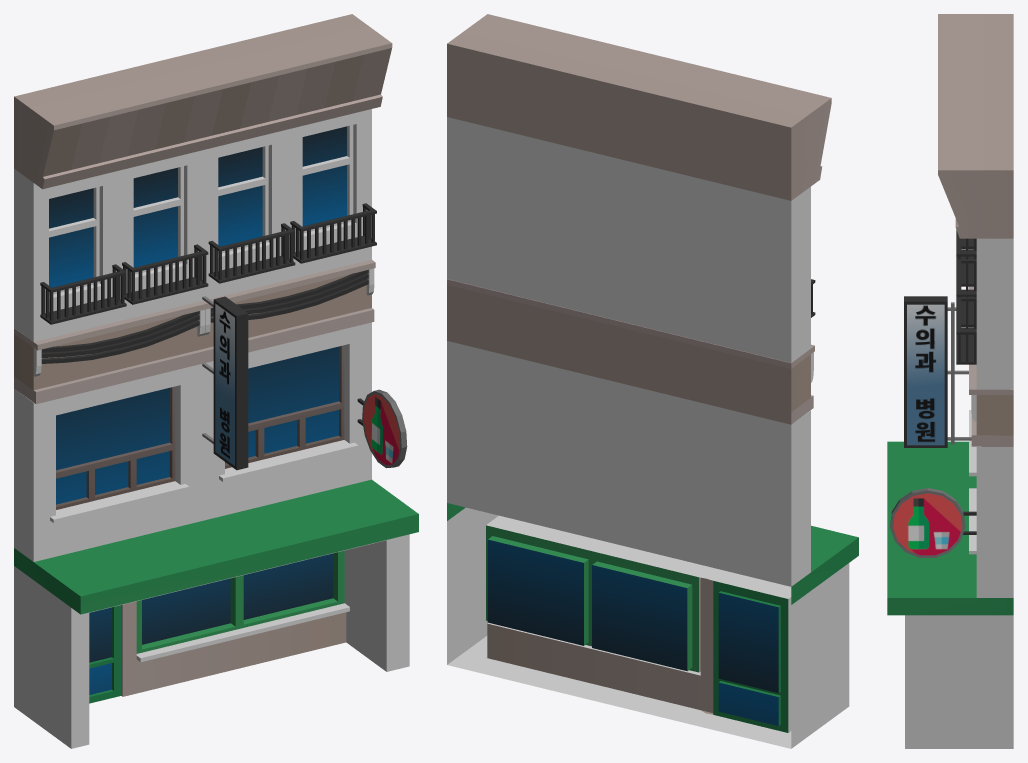
Rendered from B02_Facade-7-B.fbx.
The picture shows the model from 3 angles, left to right: view 1: azimuth 30°, elevation 25°; view 2: azimuth 150°, elevation 25°; view 3: azimuth 270°, elevation 25°; orthographic projection. The views are drawn at different scales.
Visible parts, largest first — view 1: B02_Facade-7-B; view 2: B02_Facade-7-B; view 3: B02_Facade-7-B.
Boxes of the visible parts, x1=… form: B02_Facade-7-B: x1=14, y1=14, x2=418, y2=748; B02_Facade-7-B: x1=447, y1=14, x2=858, y2=748; B02_Facade-7-B: x1=887, y1=14, x2=1013, y2=748.
Size of the model in its own units: 750 by 1294 by 256.
